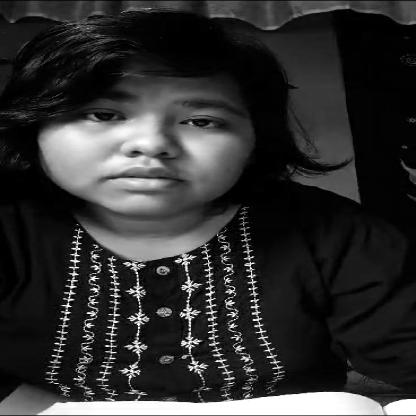Normal: (12, 39, 278, 231)
